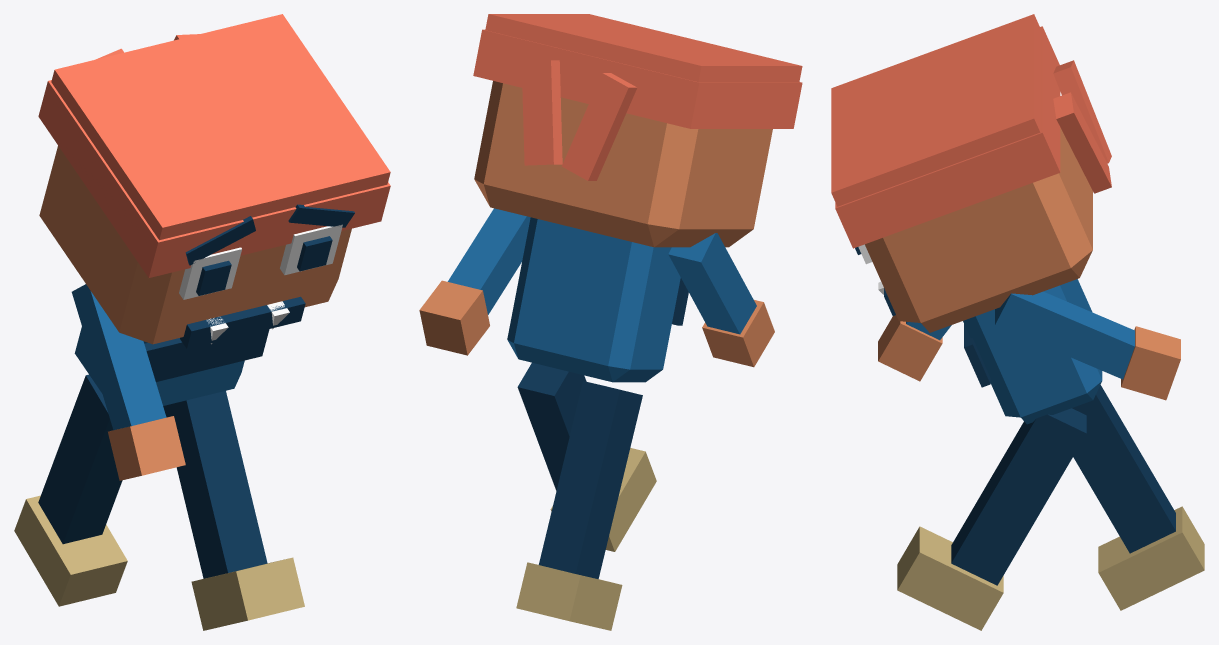
Rendered from scout_r15.glb.
The picture shows the model from 3 angles, left to right: view 1: azimuth 30°, elevation 25°; view 2: azimuth 150°, elevation 25°; view 3: azimuth 270°, elevation 25°; orthographic projection. The views are drawn at different scales.
Parts seen in each view (by area): view 1: scout_r15_mesh; view 2: scout_r15_mesh; view 3: scout_r15_mesh.
Boxes of the visible parts, left/top/right/bottom form: scout_r15_mesh: left=14, top=14, right=390, bottom=630; scout_r15_mesh: left=419, top=14, right=802, bottom=630; scout_r15_mesh: left=831, top=14, right=1204, bottom=630.
Size of the model in its own units: 0.5007 by 1.2 by 0.7418.
1 material, 1 textured.
